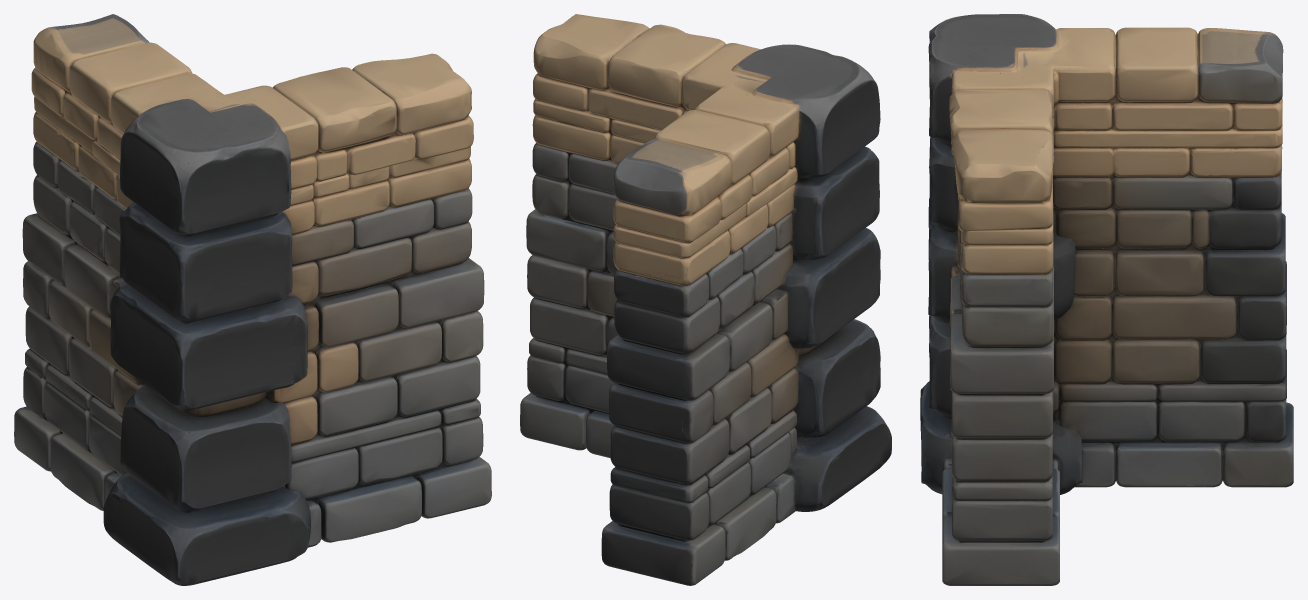
The model's file is The_Fortress_Corner_Block_opt.glb.
3 renders of one model, left to right at view 1: azimuth 30°, elevation 25°; view 2: azimuth 150°, elevation 25°; view 3: azimuth 270°, elevation 25°, orthographic. The views are drawn at different scales.
Parts seen in each view (by area): view 1: material; view 2: material; view 3: material.
Part boxes in pixels (left/top/right/bottom): material: left=14, top=14, right=491, bottom=585; material: left=520, top=14, right=891, bottom=585; material: left=920, top=14, right=1293, bottom=585.
Size of the model in its own units: 0.6567 by 0.8189 by 0.6564.
1 material, 1 textured.
